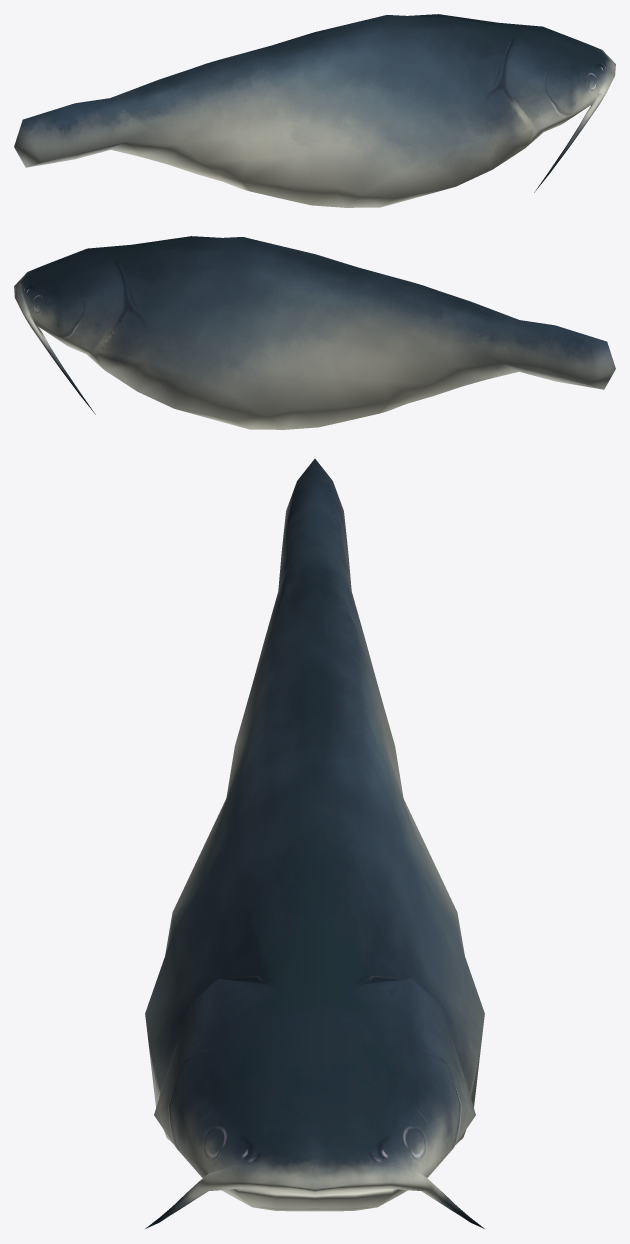
File: fishBody_geo.fbx
3 views of the same model, one above another, from view 1: azimuth 30°, elevation 25°; view 2: azimuth 150°, elevation 25°; view 3: azimuth 270°, elevation 25° (orthographic). The views are drawn at different scales.
Parts seen in each view (by area): view 1: fishBody_geo; view 2: fishBody_geo; view 3: fishBody_geo.
Boxes of the visible parts, <box> form: fishBody_geo: <box>14,14,615,207</box>; fishBody_geo: <box>14,236,615,429</box>; fishBody_geo: <box>145,459,484,1228</box>.
Size of the model in its own units: 10072 by 2809 by 2510.
Materials: 1 (1 with a texture image).
